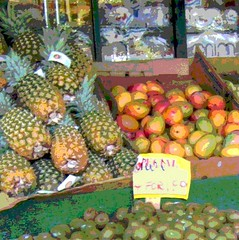Pineapple: (1, 49, 66, 122), (69, 75, 121, 161), (1, 9, 50, 66)
